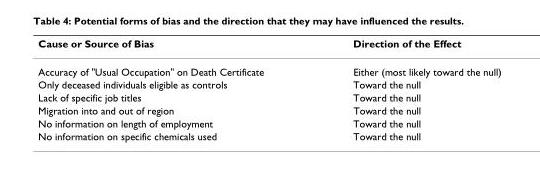table: (37, 36, 500, 141)
table column: (37, 36, 307, 141), (307, 36, 500, 141)
table column header: (37, 36, 500, 57)
table row: (37, 36, 500, 57), (37, 57, 500, 77), (37, 77, 500, 90), (37, 90, 500, 103), (37, 103, 500, 116), (37, 116, 500, 129), (37, 129, 500, 141)
